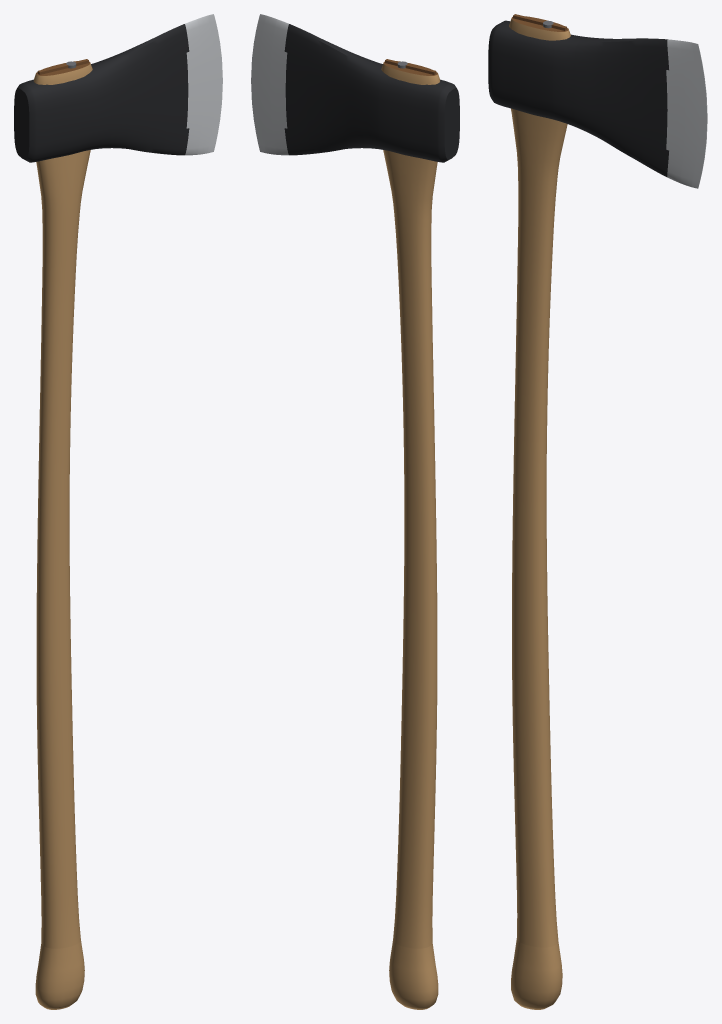
Rendered from axe.glb.
3 renders of one model, left to right at view 1: azimuth 30°, elevation 25°; view 2: azimuth 150°, elevation 25°; view 3: azimuth 330°, elevation 25°, orthographic. The views are drawn at different scales.
Parts seen in each view (by area): view 1: Handle, Head; view 2: Handle, Head; view 3: Handle, Head.
Part boxes in pixels (x1=…): Handle: x1=34, y1=59, x2=92, y2=1009; Head: x1=14, y1=14, x2=222, y2=162; Handle: x1=381, y1=59, x2=439, y2=1009; Head: x1=251, y1=14, x2=459, y2=162; Handle: x1=509, y1=14, x2=570, y2=1009; Head: x1=488, y1=20, x2=707, y2=188.
Bounding box in the file's own units: 0.203 × 0.919 × 0.0361.
